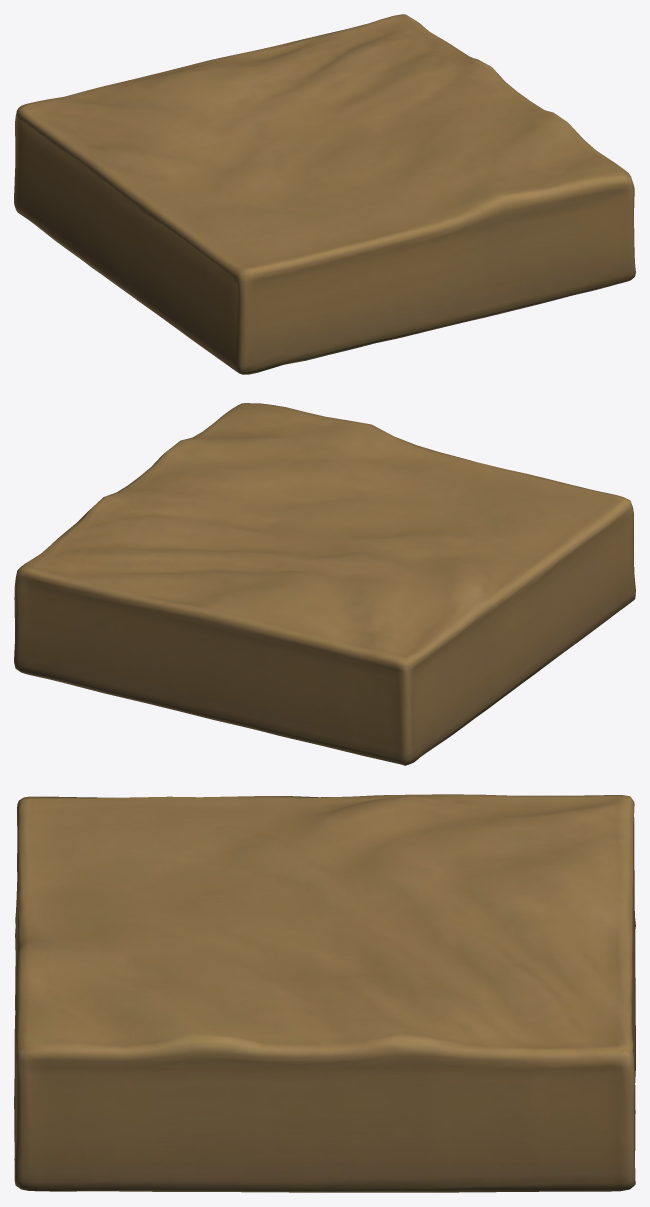
The model's file is SandTerrain.glb.
3 views of the same model, one above another, from view 1: azimuth 30°, elevation 25°; view 2: azimuth 150°, elevation 25°; view 3: azimuth 270°, elevation 25° (orthographic). The views are drawn at different scales.
Visible parts, largest first — view 1: mesh; view 2: mesh; view 3: mesh.
Boxes of the visible parts, left/top/right/bottom form: mesh: left=14, top=14, right=635, bottom=374; mesh: left=14, top=403, right=635, bottom=765; mesh: left=14, top=794, right=635, bottom=1192.
Size of the model in its own units: 0.9983 by 0.2904 by 0.9988.
Materials: 1 (1 with a texture image).
